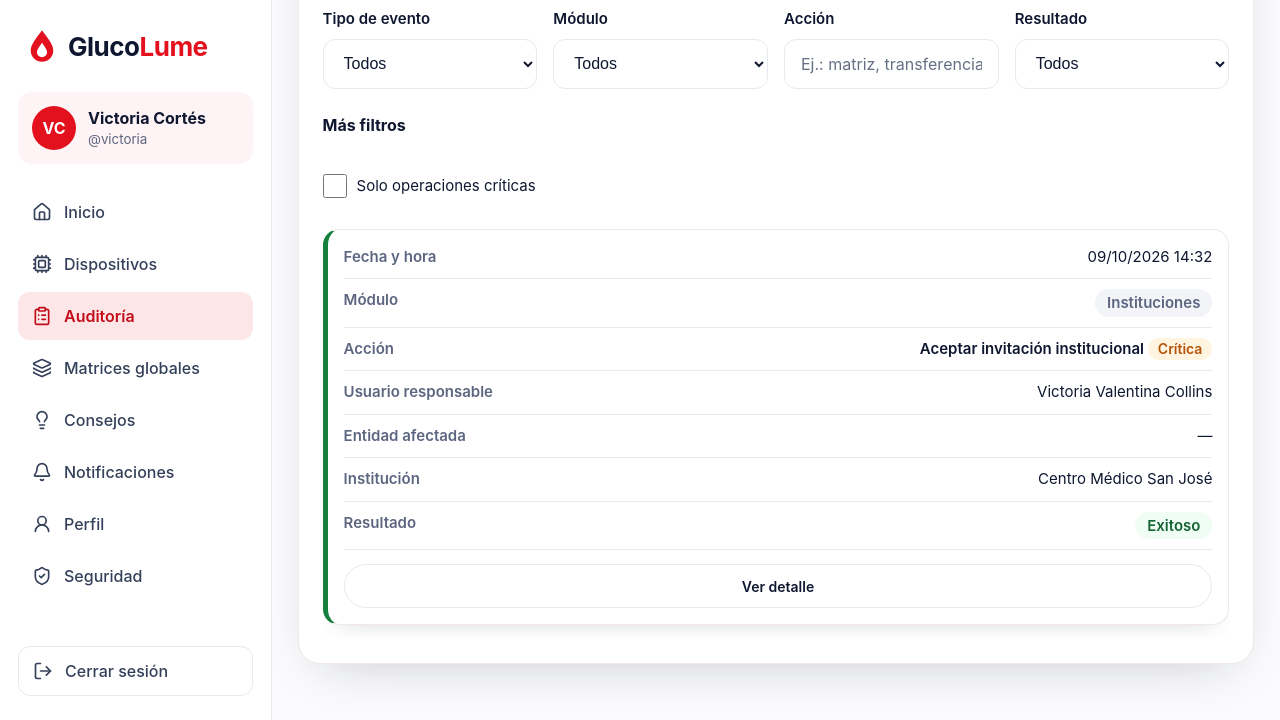
Test case: Auditoría general (administrador del sistema) › el detalle nombra la entidad, su rol y la institución, y los UUID quedan en «Detalles técnicos» junto al nombre
(page scrolled)
Click the link "Ver detalle" at [778, 586], box [344,564,1212,608]
(page scrolled)
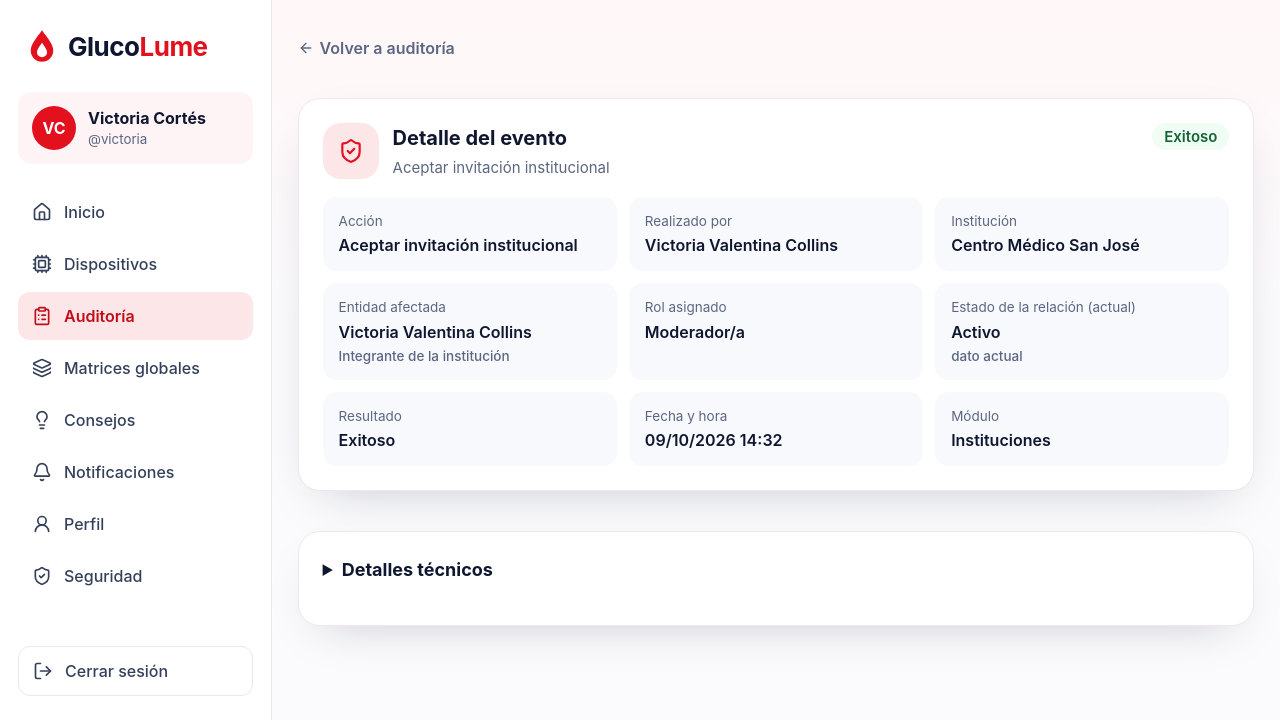
Result: the text "Realizado por" shows "Victoria Valentina Collins" at [645,235,838,255]
Result: the text "Entidad afectada" shows "Victoria Valentina Collins" at [339,322,532,342]
Result: the text "Entidad afectada" shows "Integrante de la institución" at [339,348,510,364]
